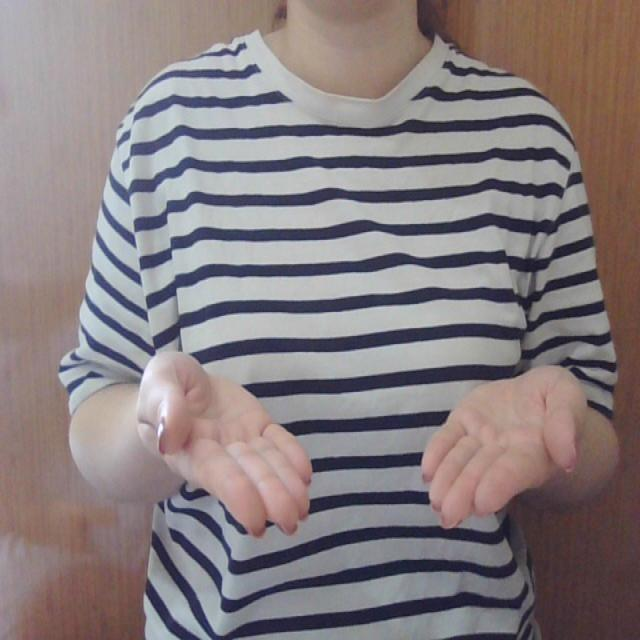Evet: (132, 344, 593, 543)
